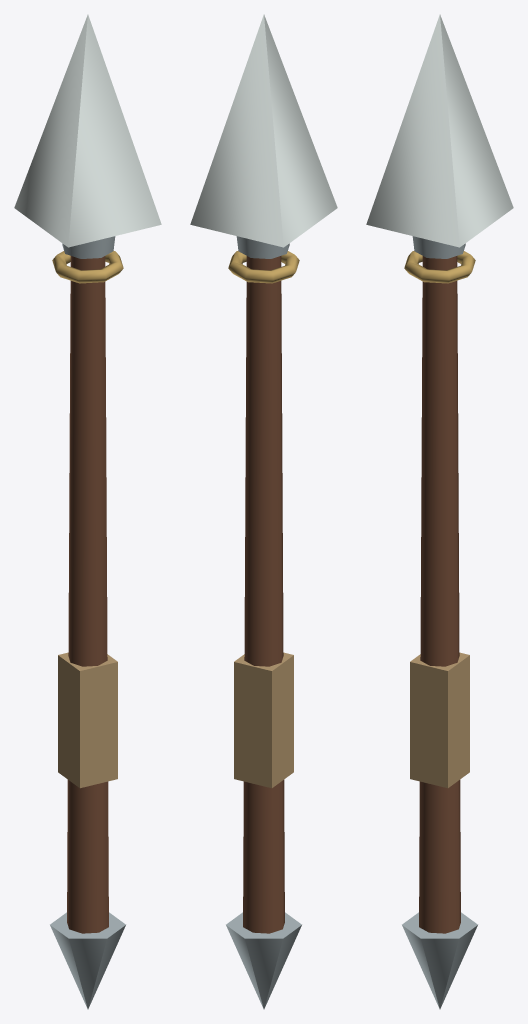
The model's file is fixed-spear.glb.
3 renders of one model, left to right at view 1: azimuth 30°, elevation 25°; view 2: azimuth 150°, elevation 25°; view 3: azimuth 330°, elevation 25°, orthographic.
Parts seen in each view (by area): view 1: piece_whole; view 2: piece_whole; view 3: piece_whole.
Part boxes in pixels (x1=…): piece_whole: x1=14, y1=14, x2=161, y2=1009; piece_whole: x1=190, y1=14, x2=337, y2=1009; piece_whole: x1=366, y1=14, x2=513, y2=1009.
Bounding box in the file's own units: 0.1838 × 1.87 × 0.1838.
